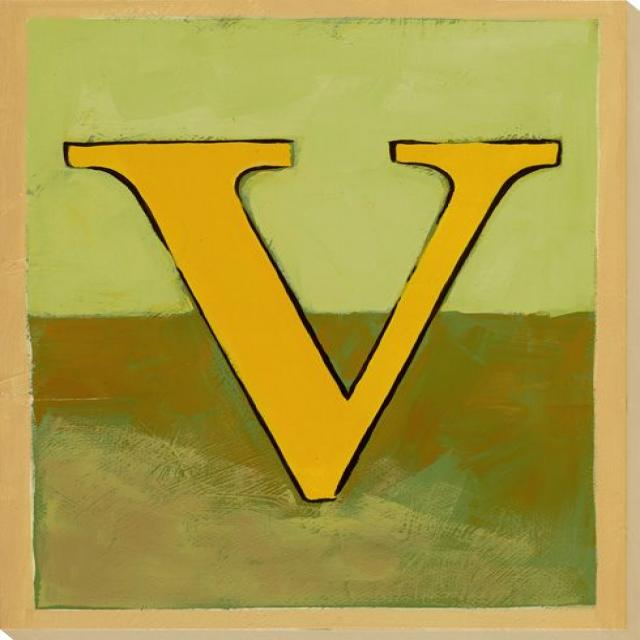V: (55, 94, 592, 563)
